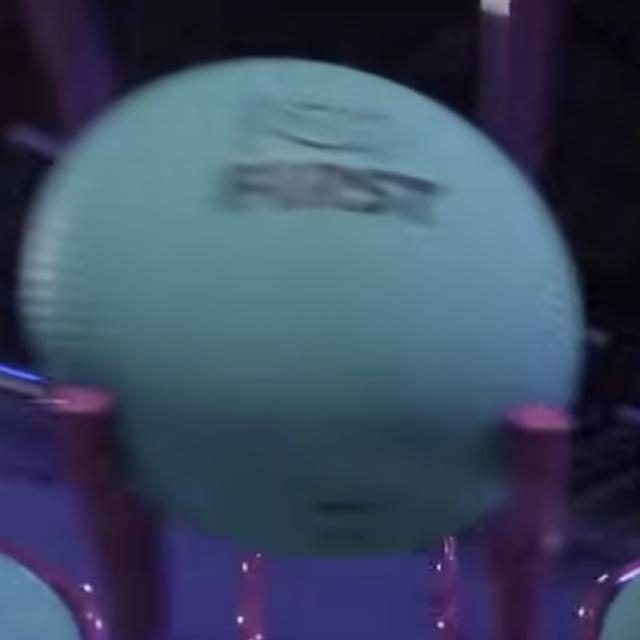Algae: (17, 59, 584, 553), (0, 553, 81, 640), (600, 576, 639, 640)
Reef: (46, 387, 130, 567), (502, 406, 571, 581)
